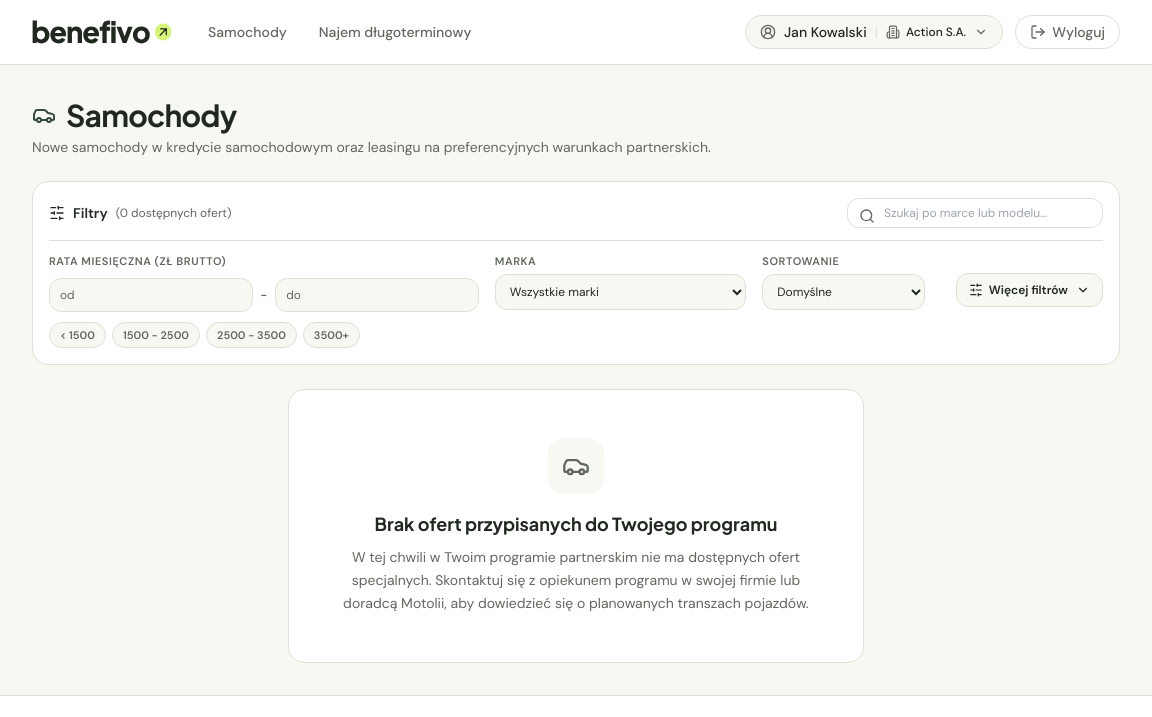
it: CatalogPage Component (P3b Private Employee Catalog) › displays error banner when logout fails and retains authenticated user view
The image size is (1152, 717).
What coordinates should you click on to do the following:
click the button "Wyloguj"
I would click on:
 (1068, 32)
Its box is [1015,15,1120,49].
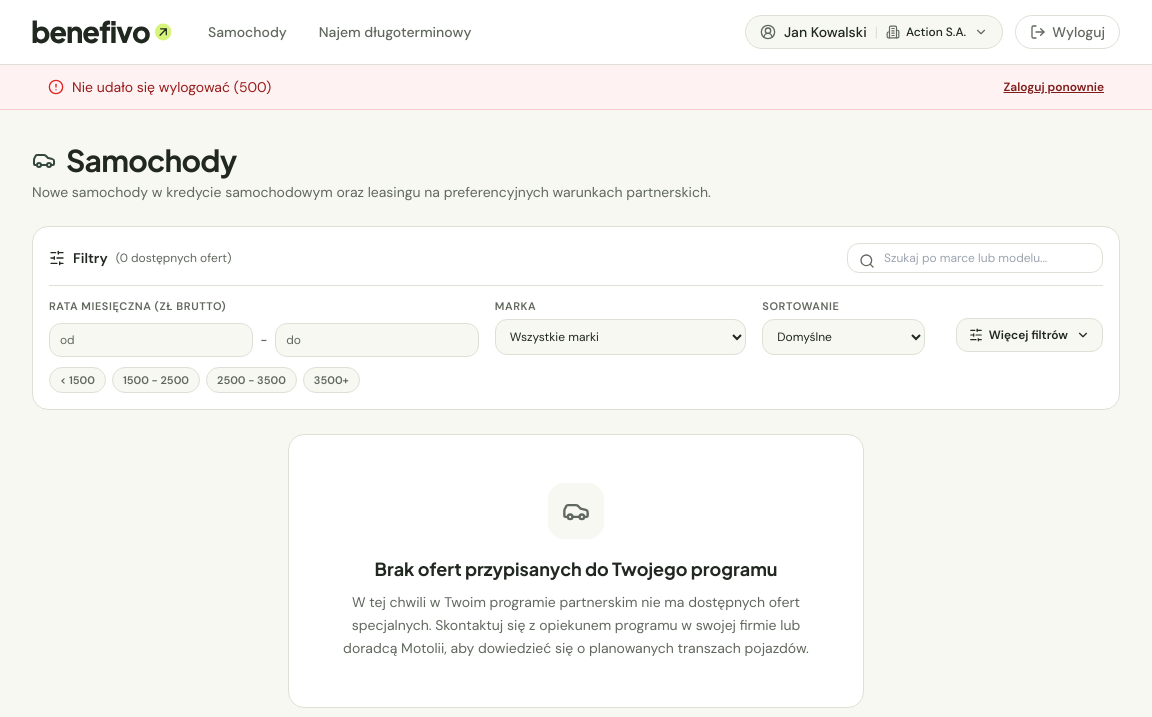
Expected: the text "Jan Kowalski" is shown, [784,22,867,42]
Now the message "Nie udało się wylogować (500) Zaloguj ponownie" is shown, box [0,65,1151,110]
Now the text "Nie udało się wylogować (500)" is shown, box [72,77,271,97]
